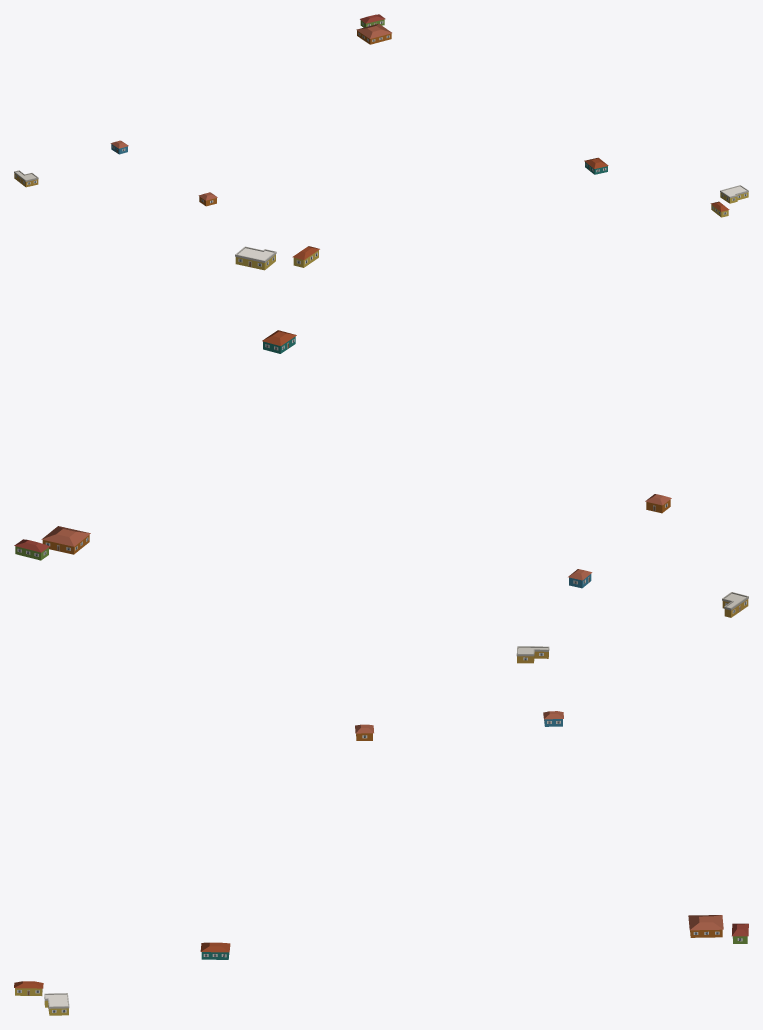
Rendered from msb_sannicolas_21_23.glb.
3 renders of one model, top to bottom at view 1: azimuth 30°, elevation 25°; view 2: azimuth 150°, elevation 25°; view 3: azimuth 270°, elevation 25°, orthographic. The views are drawn at different scales.
Visible parts, largest first — view 1: msb_sannicolas_21_23_lod0; view 2: msb_sannicolas_21_23_lod0; view 3: msb_sannicolas_21_23_lod0.
Part boxes in pixels (<box>): msb_sannicolas_21_23_lod0: <box>14,14,748,217</box>; msb_sannicolas_21_23_lod0: <box>14,246,748,617</box>; msb_sannicolas_21_23_lod0: <box>14,646,748,1015</box>.
Size of what is drawn, in the model's own units: 324 by 11.83 by 291.
Materials: 3 (1 with a texture image).
